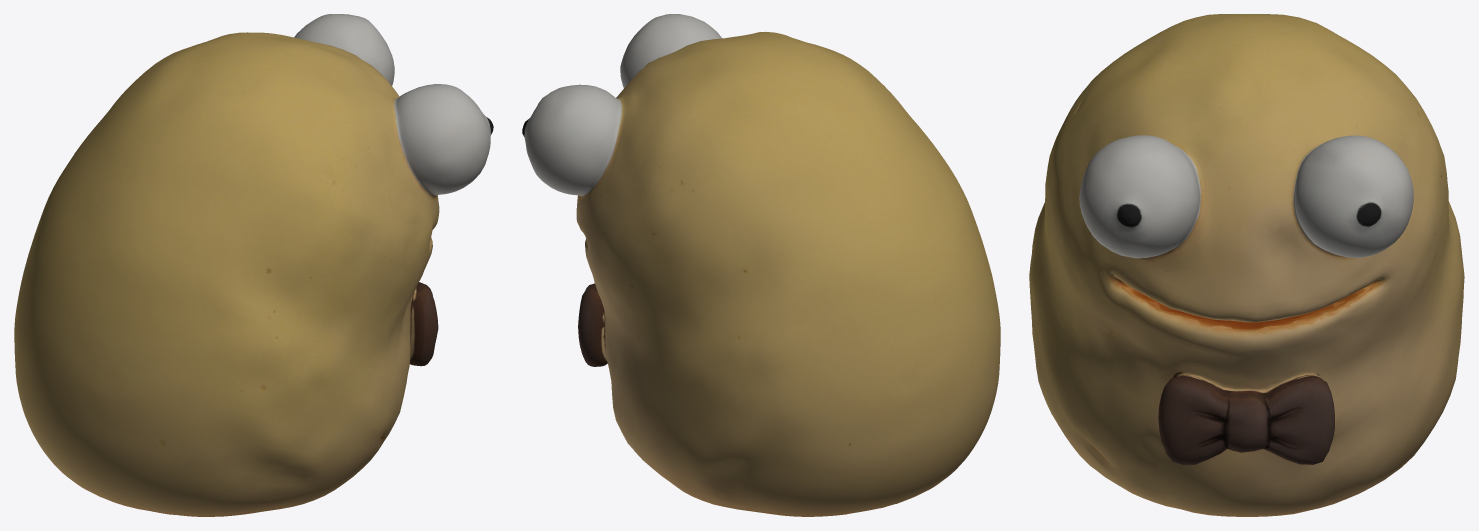
The model's file is bertram.glb.
The picture shows the model from 3 angles, left to right: view 1: azimuth 30°, elevation 25°; view 2: azimuth 150°, elevation 25°; view 3: azimuth 270°, elevation 25°; orthographic projection. The views are drawn at different scales.
Parts seen in each view (by area): view 1: tripo_node_ab76724b; view 2: tripo_node_ab76724b; view 3: tripo_node_ab76724b.
Boxes of the visible parts, x1,y1,x2,y2 form: tripo_node_ab76724b: (14, 14, 493, 516); tripo_node_ab76724b: (522, 14, 1000, 516); tripo_node_ab76724b: (1029, 14, 1464, 516).
Bounding box in the file's own units: 0.9993 × 0.9588 × 0.8475.
1 material, 1 textured.
